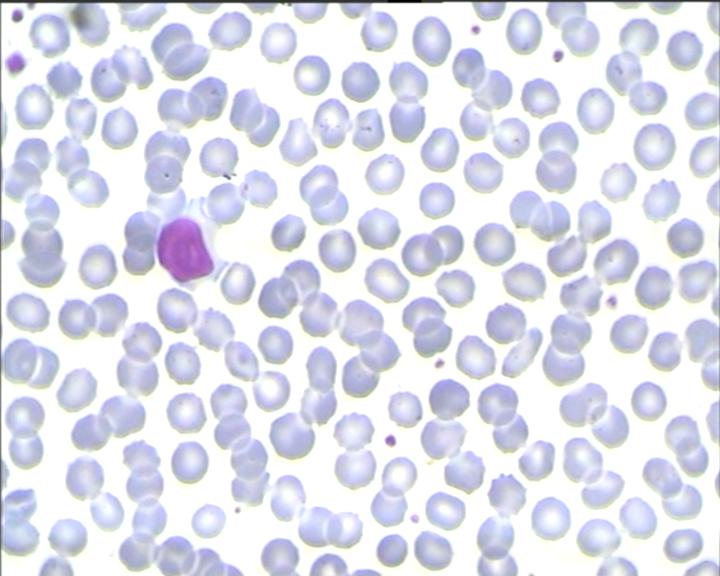lymp: (144, 203, 223, 293)
